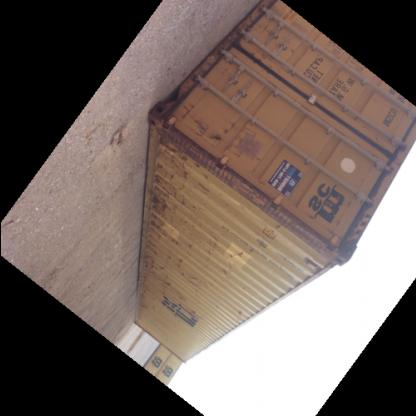Damage: (152, 145, 196, 228), (140, 232, 168, 290), (172, 250, 202, 292), (186, 113, 225, 145), (190, 166, 220, 197), (215, 242, 257, 263), (170, 234, 192, 250), (138, 303, 160, 317), (220, 223, 238, 236), (216, 266, 238, 275), (235, 305, 248, 319)
